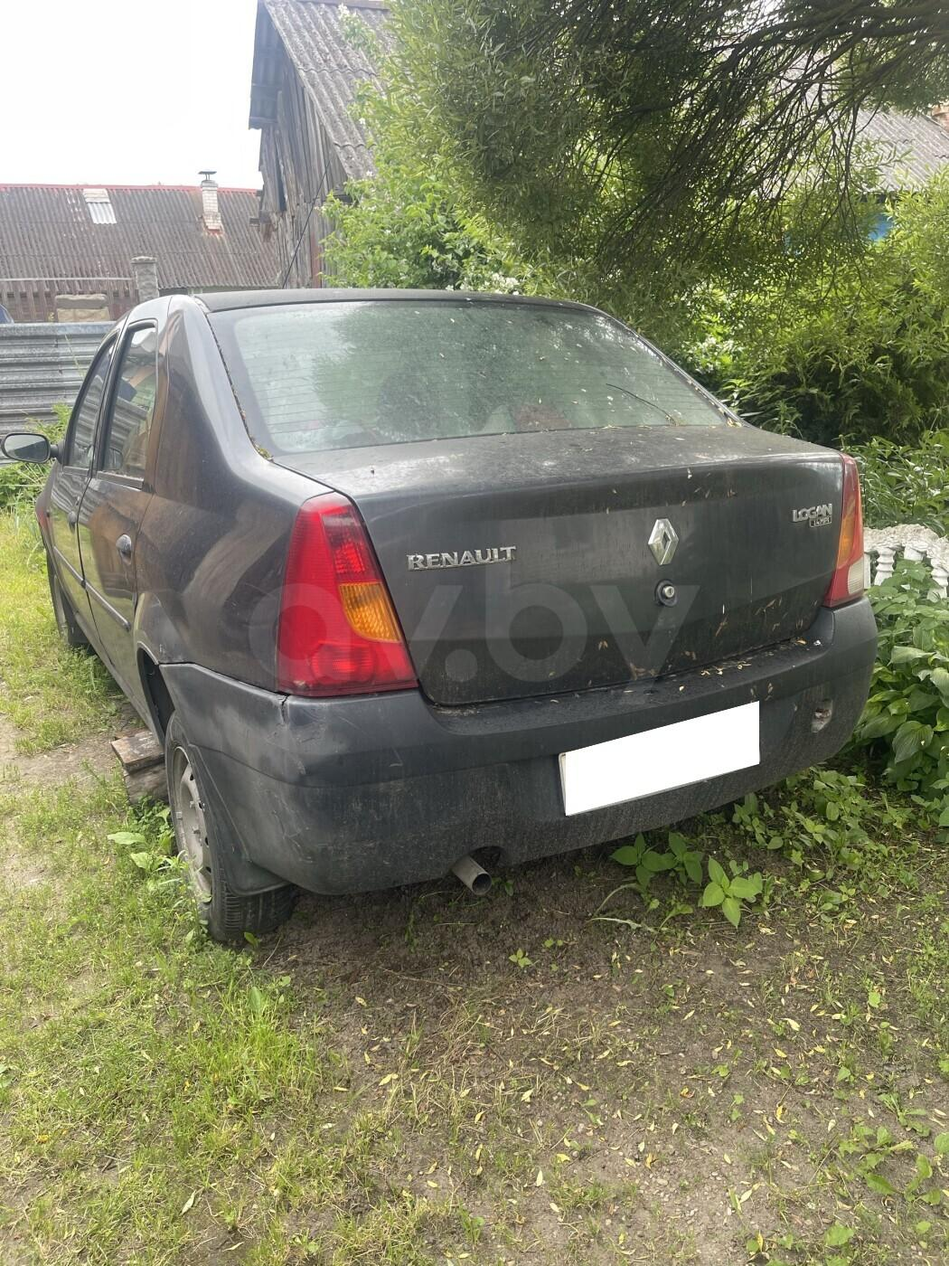Logan_2004-2009: (22, 282, 882, 950)
